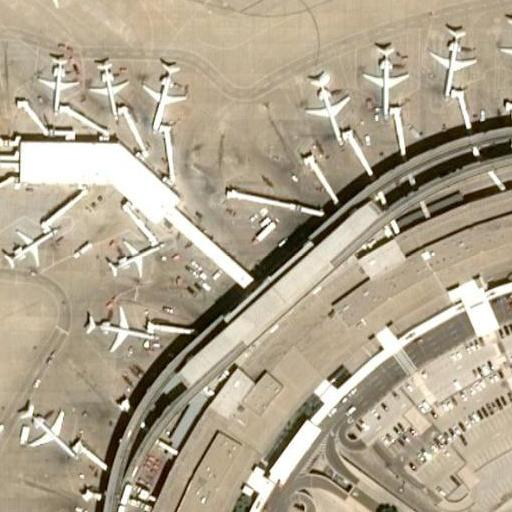Aircraft: (295, 66, 356, 133), (420, 22, 477, 90), (354, 36, 409, 105), (143, 59, 184, 134), (0, 223, 60, 271), (97, 236, 161, 278), (81, 304, 139, 350), (32, 54, 78, 111), (88, 60, 129, 121), (499, 8, 512, 72), (23, 0, 85, 9)
